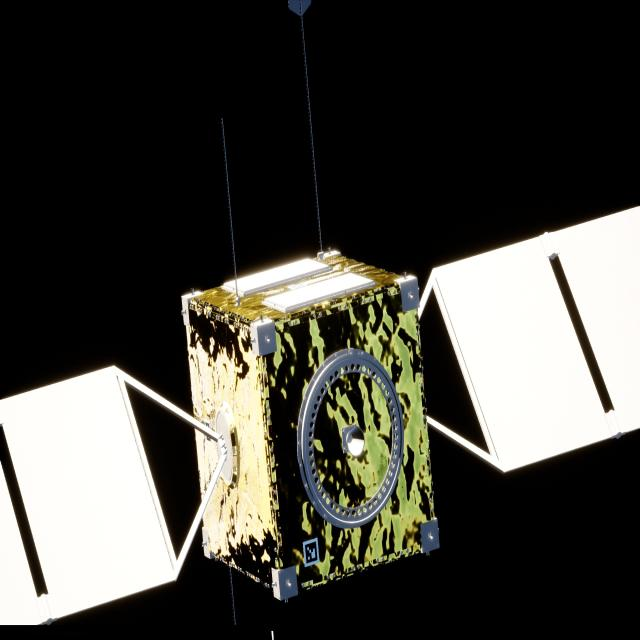medium_debris: (0, 206, 640, 629)
